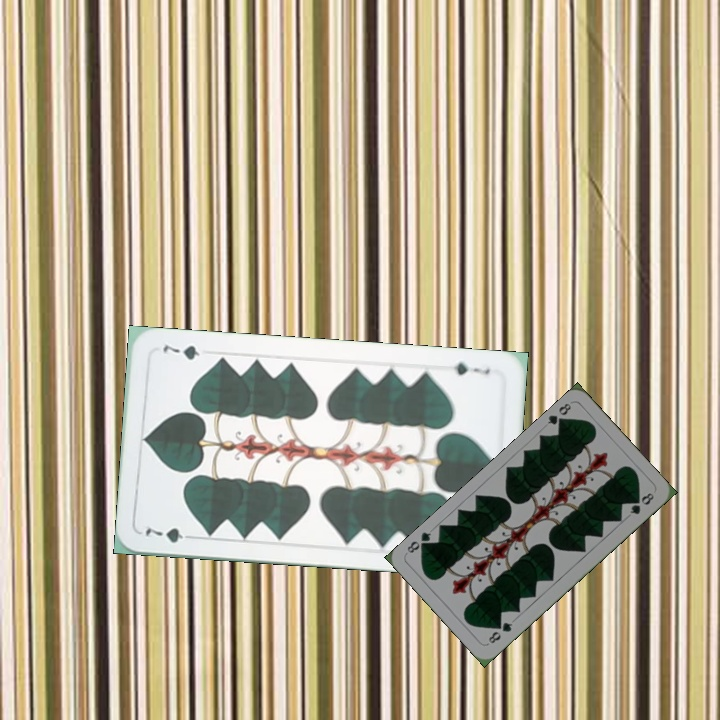G7: (141, 524, 199, 546), (449, 358, 493, 378)
G8: (543, 399, 574, 430), (483, 618, 515, 647)
